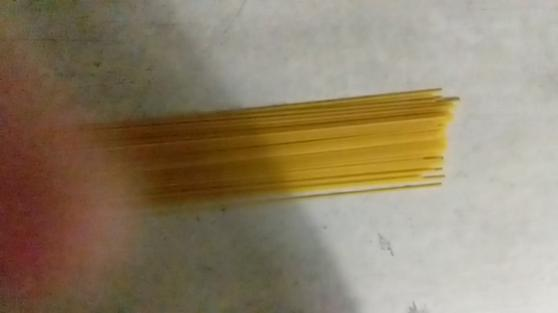spaghetti: (111, 83, 466, 219)
